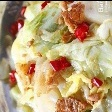juanxincairoupian: (3, 0, 112, 112)
